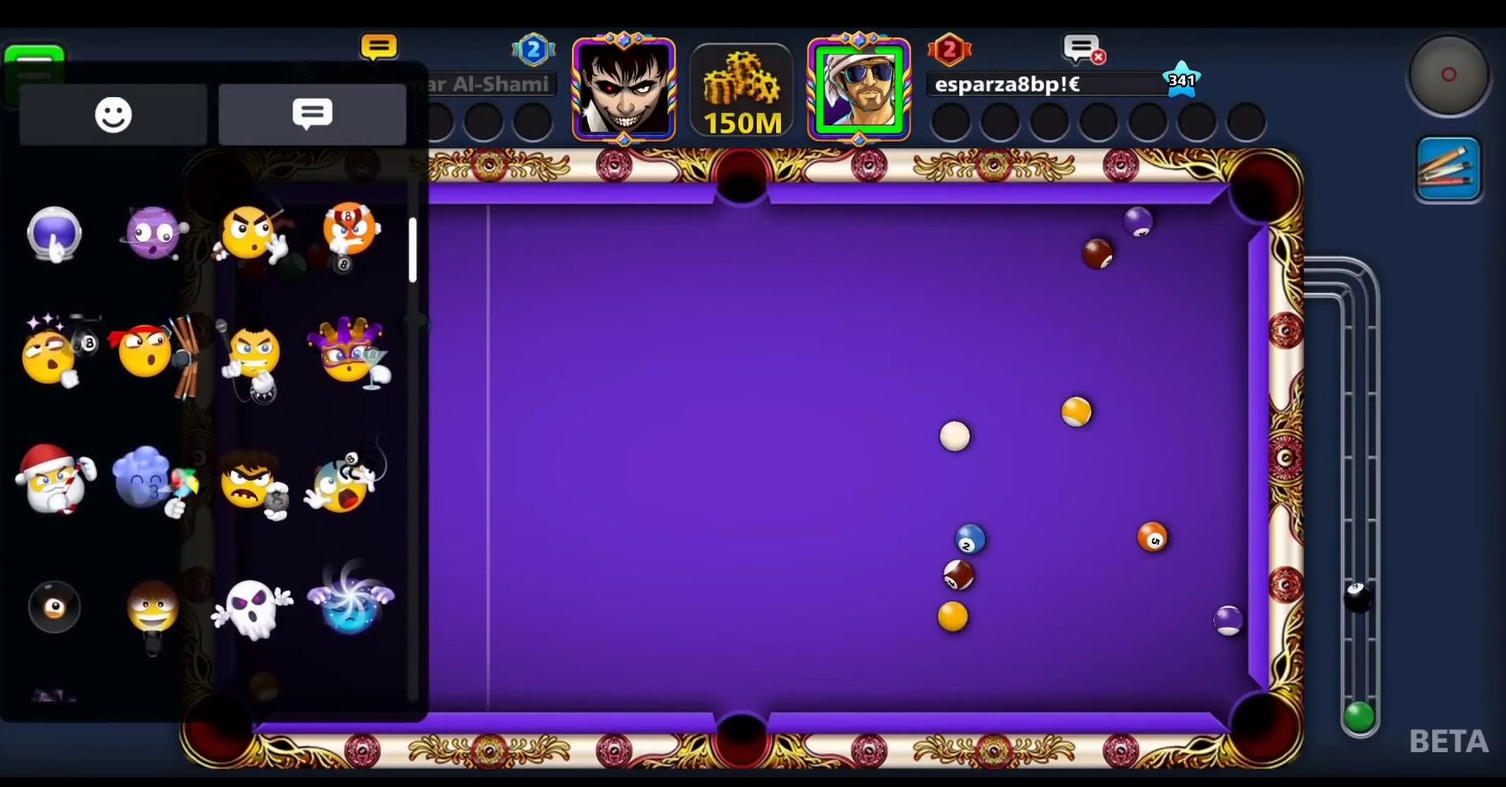Ball: (1073, 236, 1122, 275), (932, 595, 975, 638), (1134, 513, 1175, 558), (1113, 202, 1160, 240), (949, 518, 989, 557), (1208, 598, 1246, 638), (1058, 394, 1097, 430), (939, 558, 977, 594)
Hole: (1216, 680, 1308, 775), (1216, 138, 1303, 236), (178, 689, 262, 774), (702, 692, 783, 776), (704, 142, 779, 218)
Play_Area: (440, 205, 1248, 712)
Spin: (1405, 32, 1499, 124)
White: (930, 413, 977, 457)
